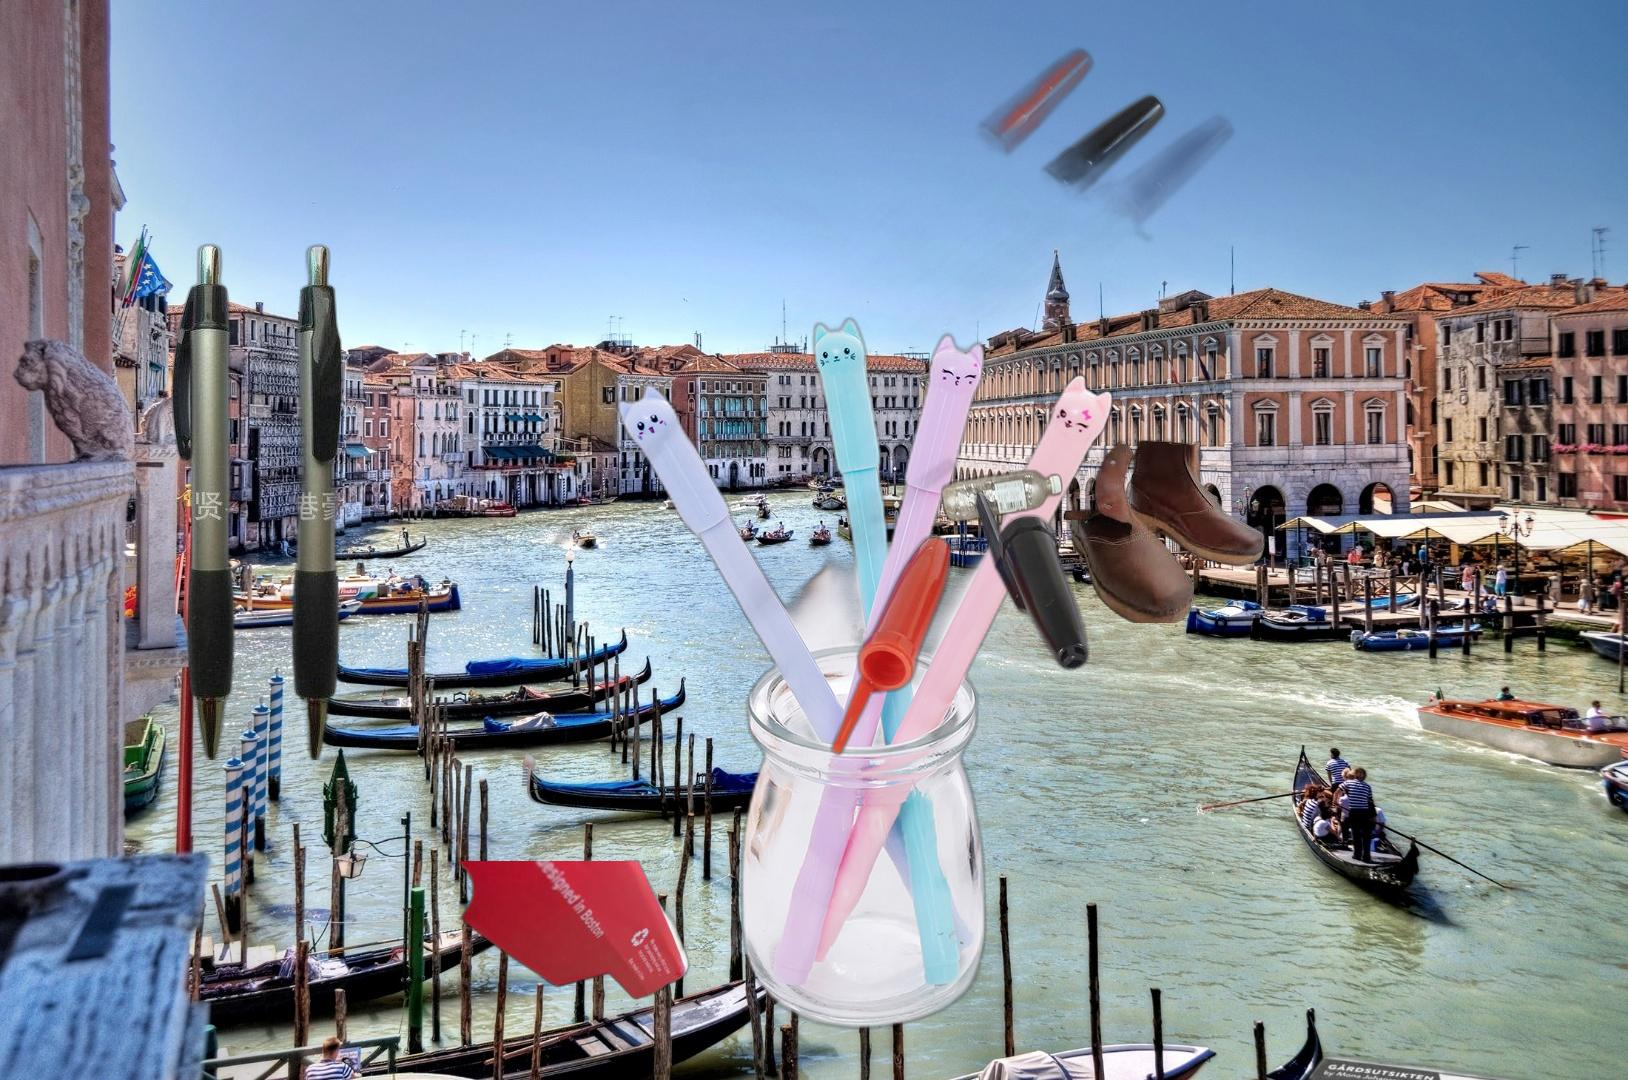biological: (239, 950, 686, 1080)
penholder: (524, 28, 1254, 777), (612, 311, 1119, 1035), (167, 239, 354, 761)
plastic-bottles: (938, 464, 1066, 528)
shoes: (1060, 429, 1268, 623)
trashbox-cardboard: (453, 861, 693, 1003), (1089, 1041, 1628, 1080)
